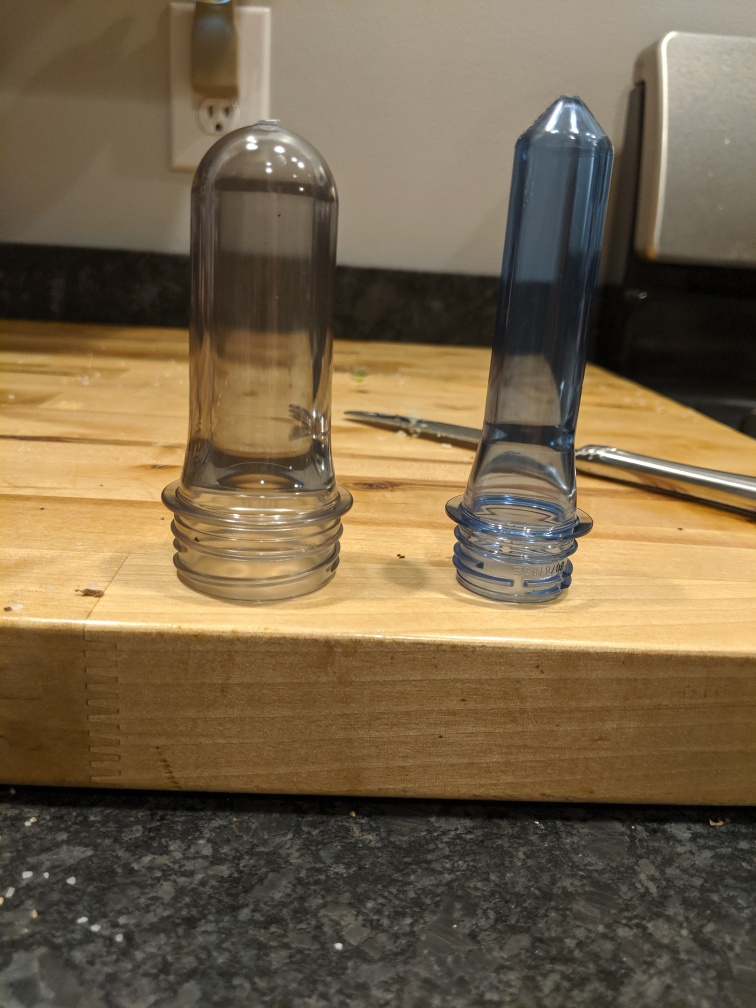preform: (153, 111, 362, 612), (440, 86, 622, 615)
